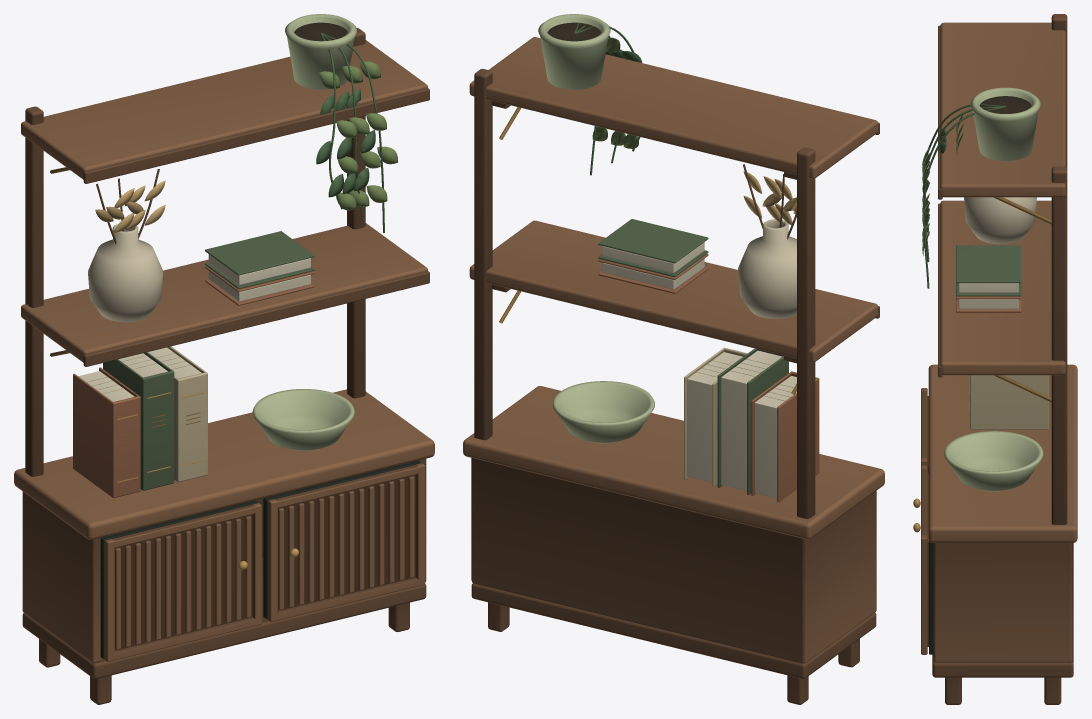
Rendered from shelf.glb.
The picture shows the model from 3 angles, left to right: view 1: azimuth 30°, elevation 25°; view 2: azimuth 150°, elevation 25°; view 3: azimuth 270°, elevation 25°; orthographic projection. The views are drawn at different scales.
Visible parts, largest first — view 1: Atelier_Shelf; view 2: Atelier_Shelf; view 3: Atelier_Shelf.
Part boxes in pixels (left/top/right/bottom): Atelier_Shelf: left=14, top=14, right=434, bottom=704; Atelier_Shelf: left=463, top=14, right=884, bottom=704; Atelier_Shelf: left=913, top=14, right=1077, bottom=704.
Bounding box in the file's own units: 1.49 × 2.43 × 0.628.
